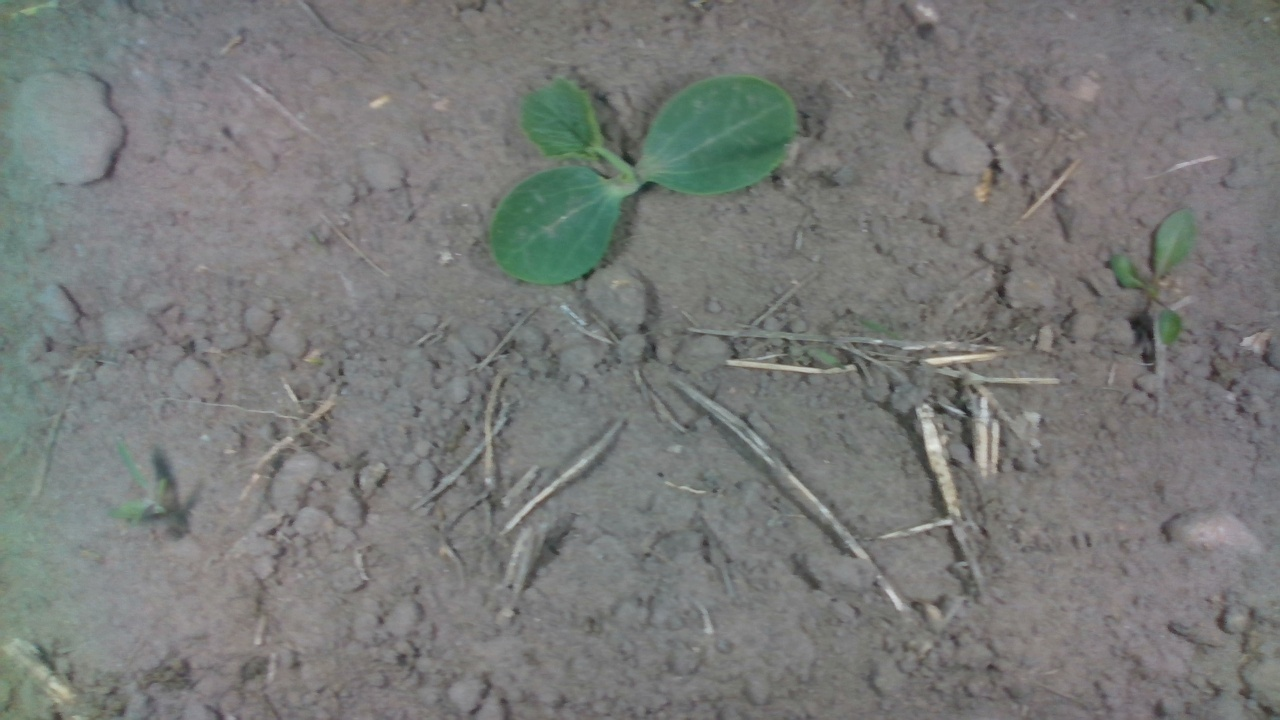crop: (490, 70, 797, 288)
weed: (1110, 205, 1197, 352)
